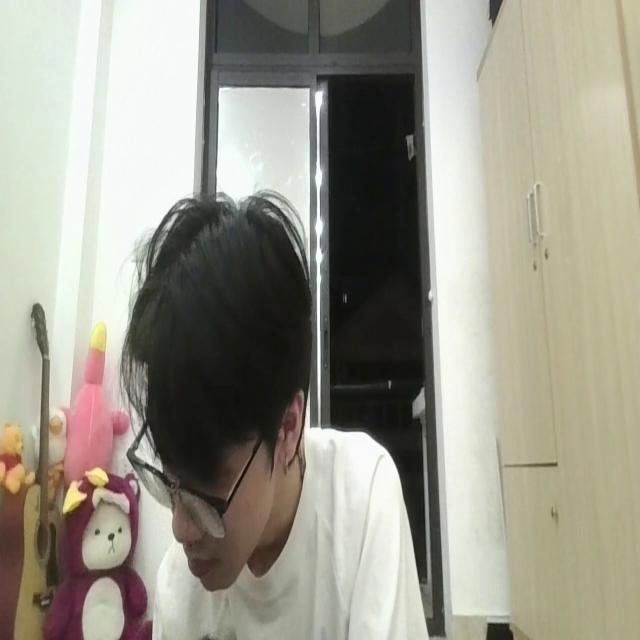student: (119, 177, 428, 640)
